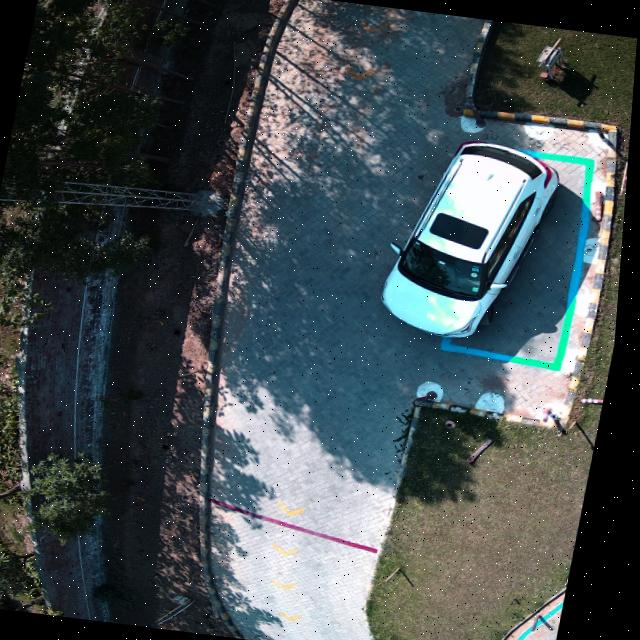car: (383, 137, 565, 342)
